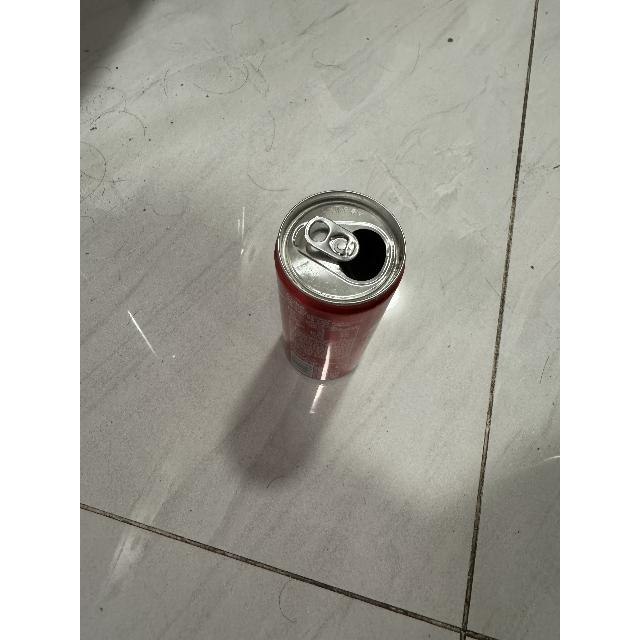coca-cola: (272, 188, 410, 384)
